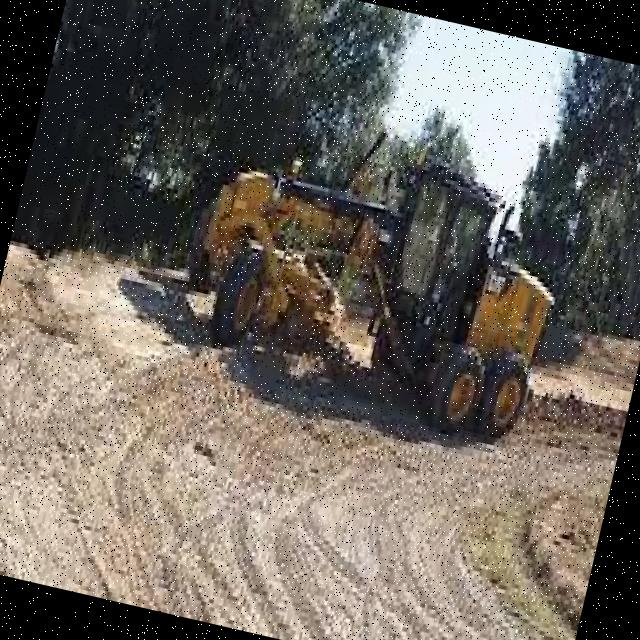Grader: (147, 90, 590, 480)
